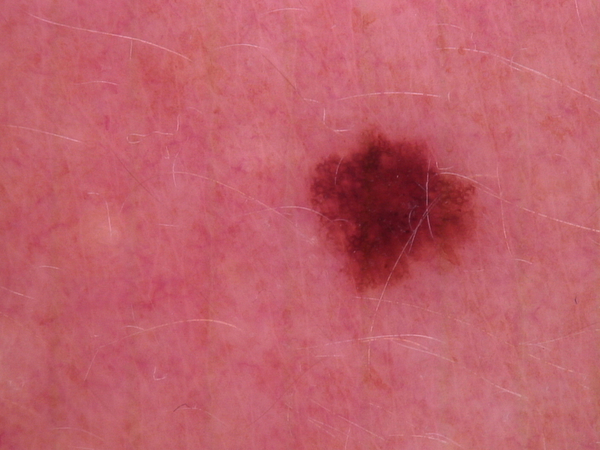Detected Lesion: (307, 125, 480, 299)
